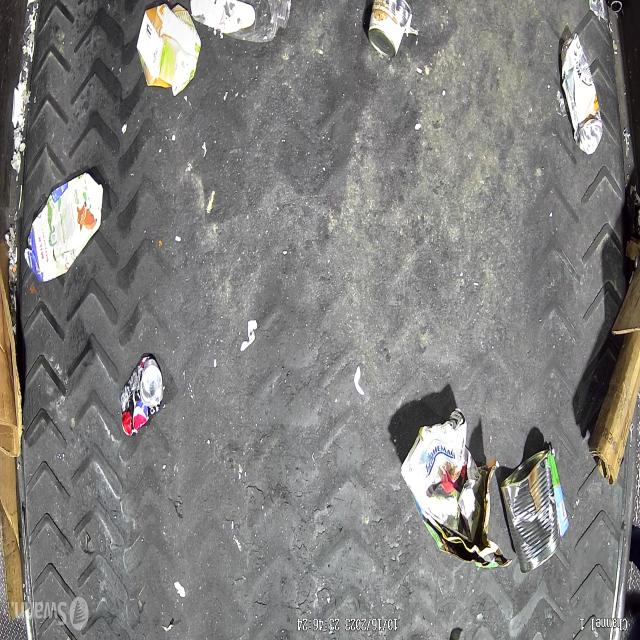can: (498, 447, 561, 575), (561, 32, 603, 156), (120, 354, 163, 436), (368, 0, 412, 57)
non_white_jug: (24, 173, 102, 283), (136, 3, 202, 97)
plastic_bottle: (190, 0, 291, 43)
